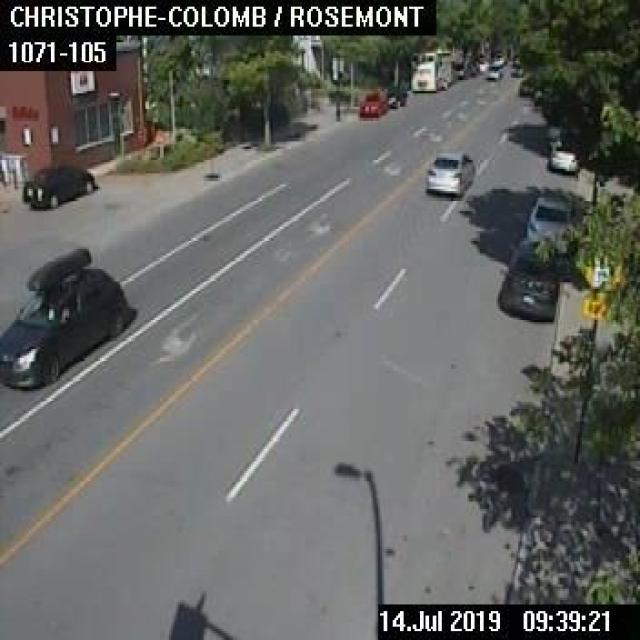vehicle: (0, 247, 127, 389), (498, 248, 558, 318), (22, 164, 92, 208), (526, 195, 570, 253), (424, 150, 472, 193), (410, 50, 450, 90), (548, 138, 576, 170), (357, 90, 384, 118), (385, 87, 406, 106), (452, 62, 465, 76), (485, 66, 499, 78), (492, 52, 504, 65), (477, 58, 487, 70)
